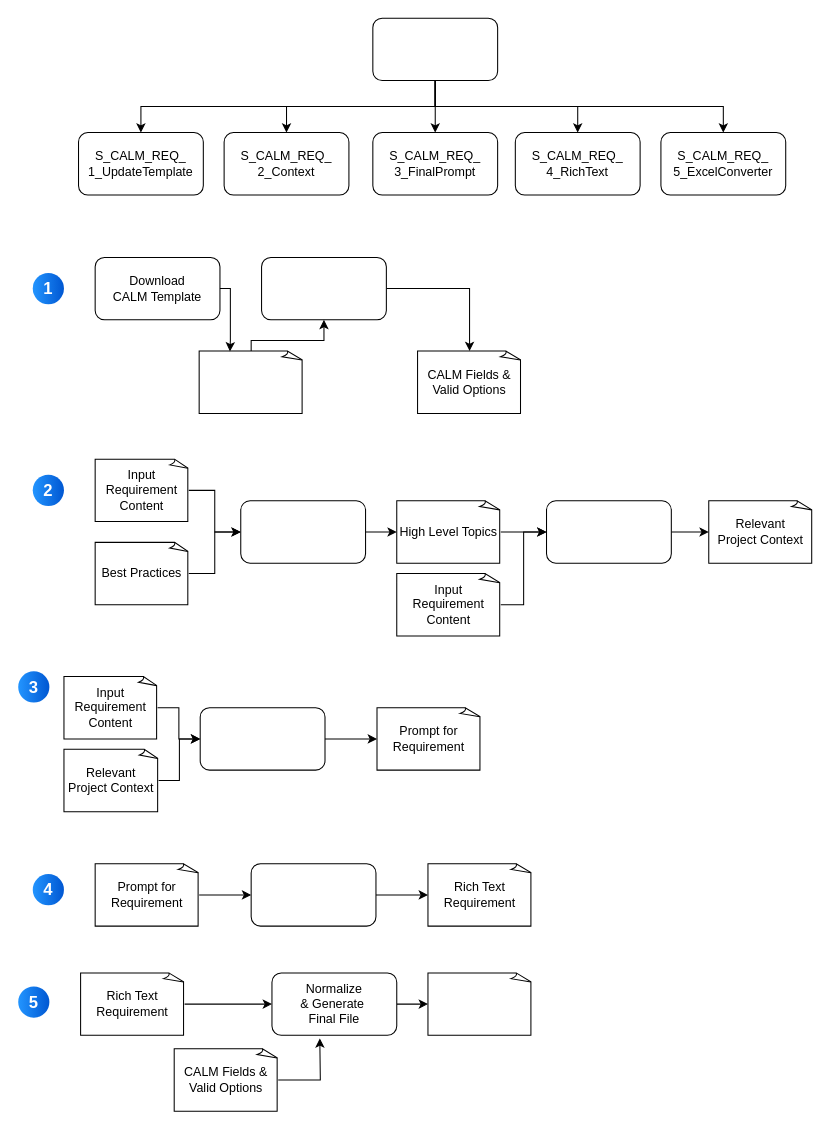
Image size: 831x1129. Some labels were removed from this diagram. Each missing label, with the centre of its shape:
CALM File Template: the point at 250,381
CALM Requirements Mass Upload File: the point at 479,1003
Define High Level Topics: the point at 303,531
Generate Prompt for Requirement: the point at 262,738
Generate Rich Text Requirement: the point at 313,894
S_CALM_REQ_ 0_Orchestrator: the point at 435,49
Summarize Project Context: the point at 608,531
Update Valid Options & CALM Context: the point at 323,288
